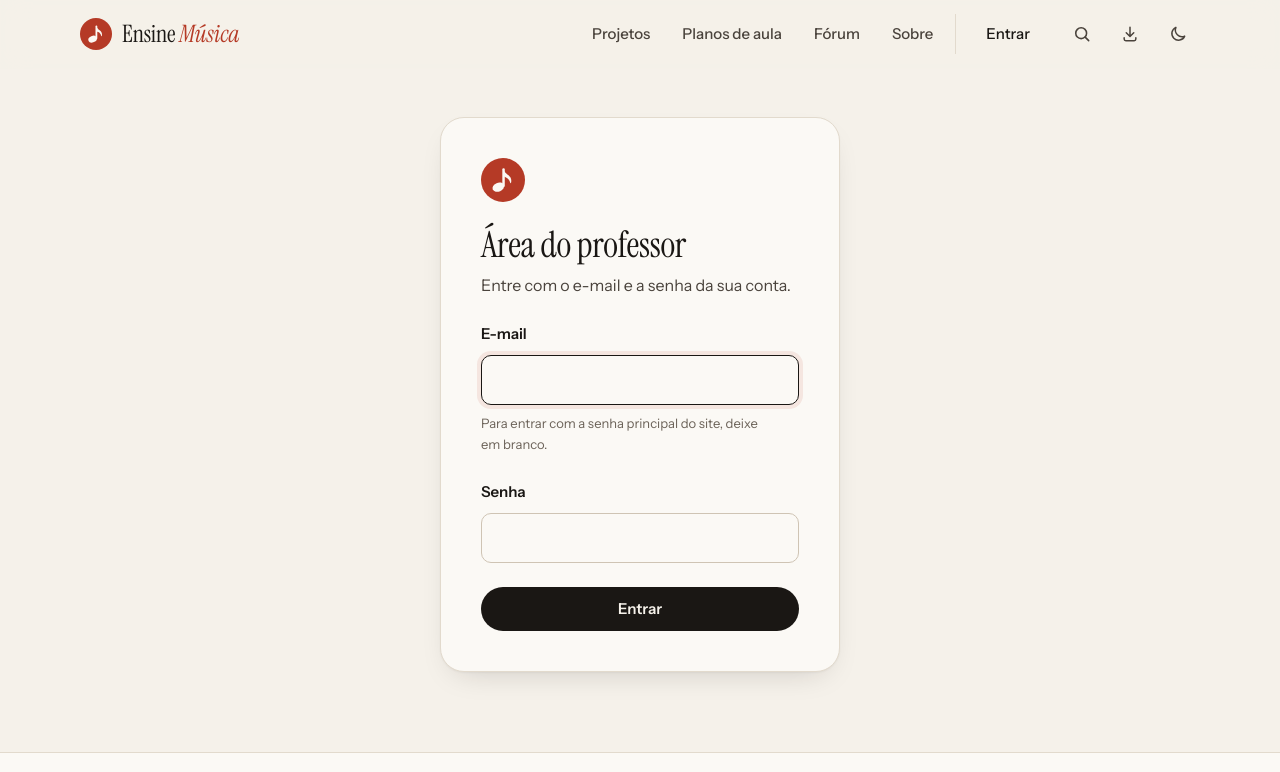
Test: login › conta com senha temporária vai direto criar a própria senha
Step 1. Type "ana@escola.com" into the field labelled "E-mail" → (640, 380), box [481,355,799,405]
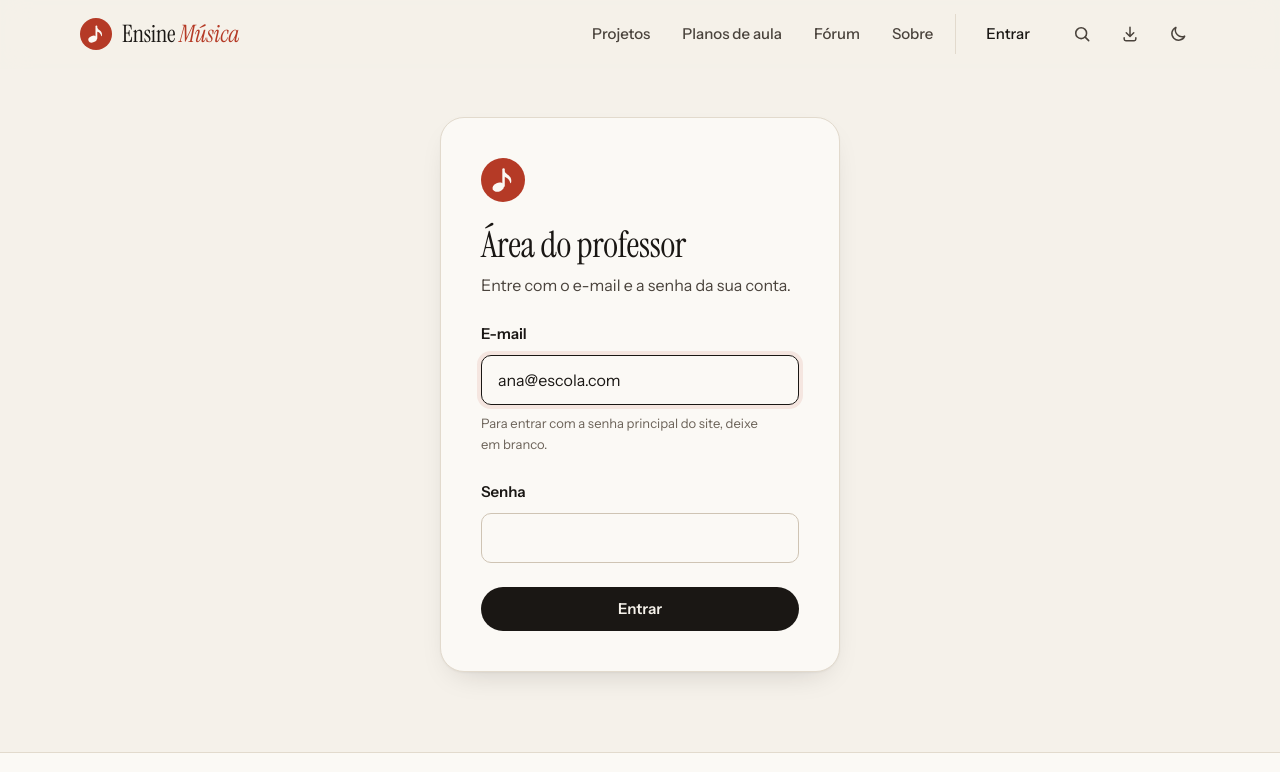
Step 2. Type "abcde-fghij" into the password field labelled "Senha" → (640, 538), box [481,513,799,563]
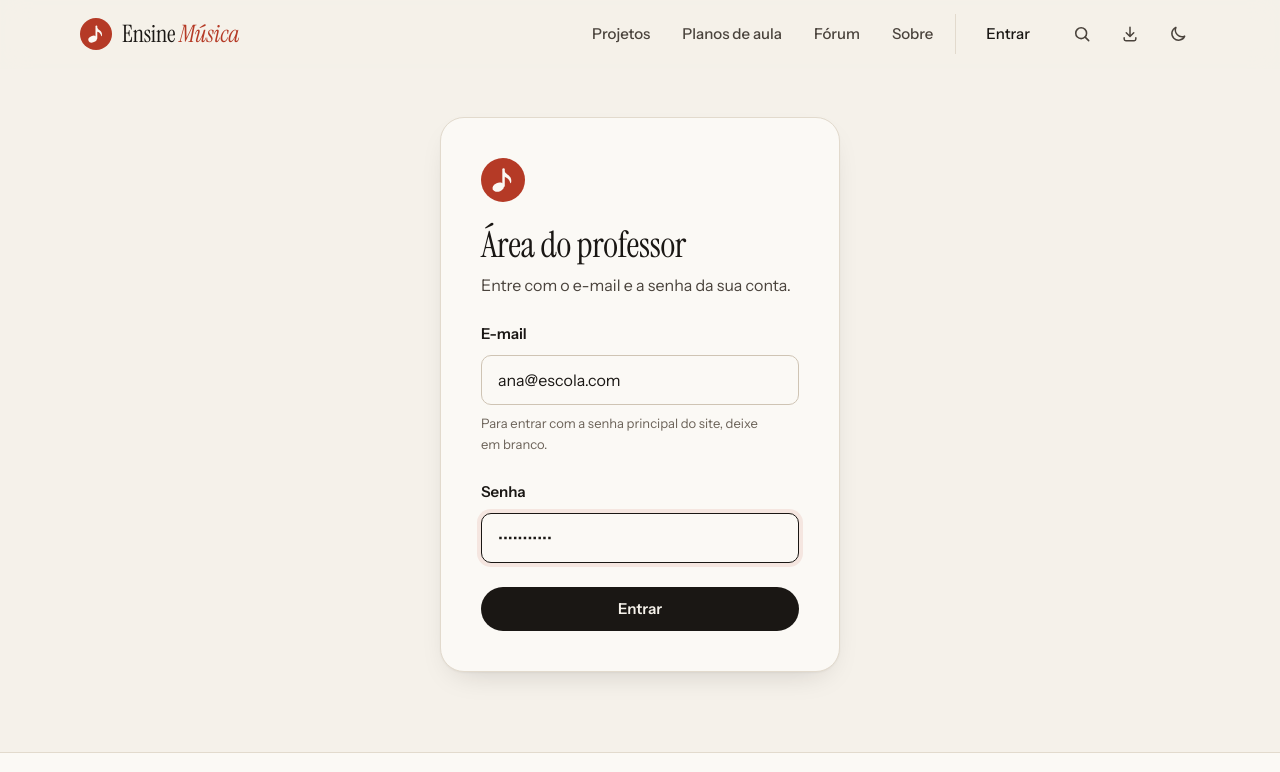
Step 3. Click the button "Entrar" → (640, 609), box [481,587,799,631]
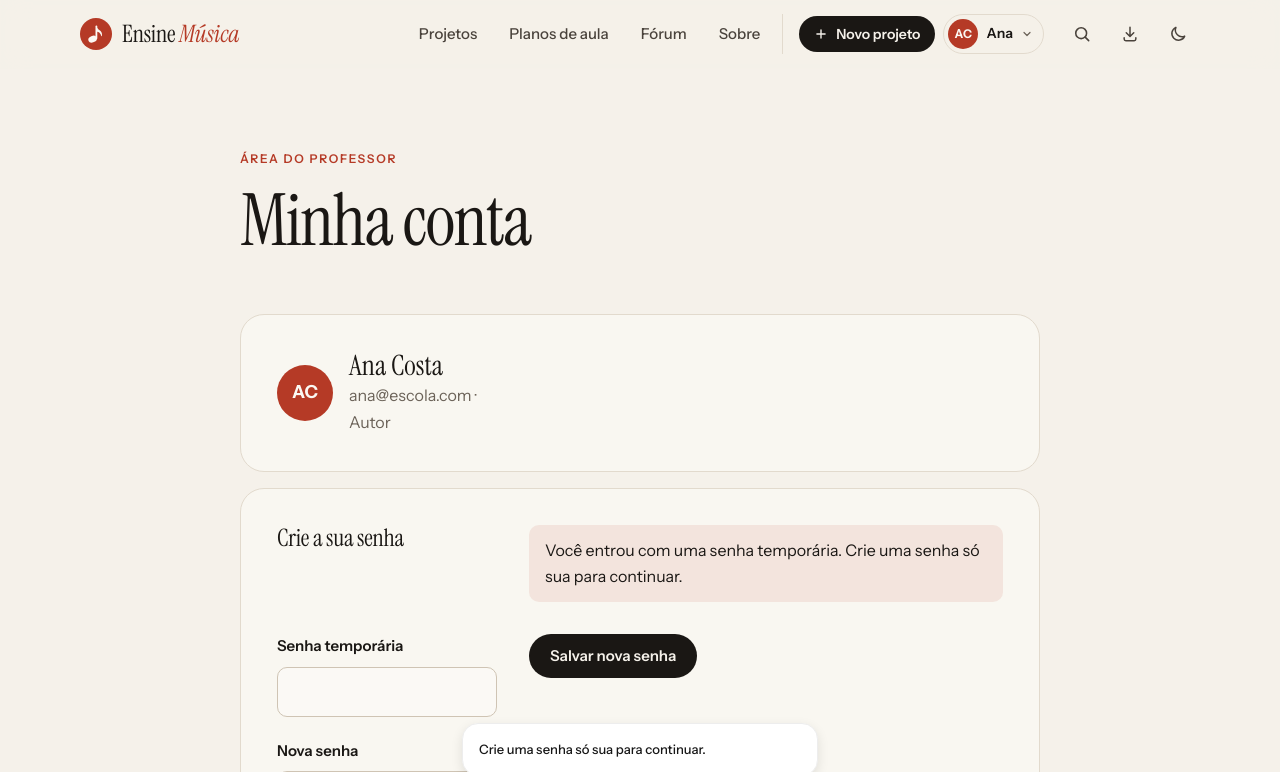
Expected: the heading "Crie a sua senha" is shown, [277,525,404,550]
